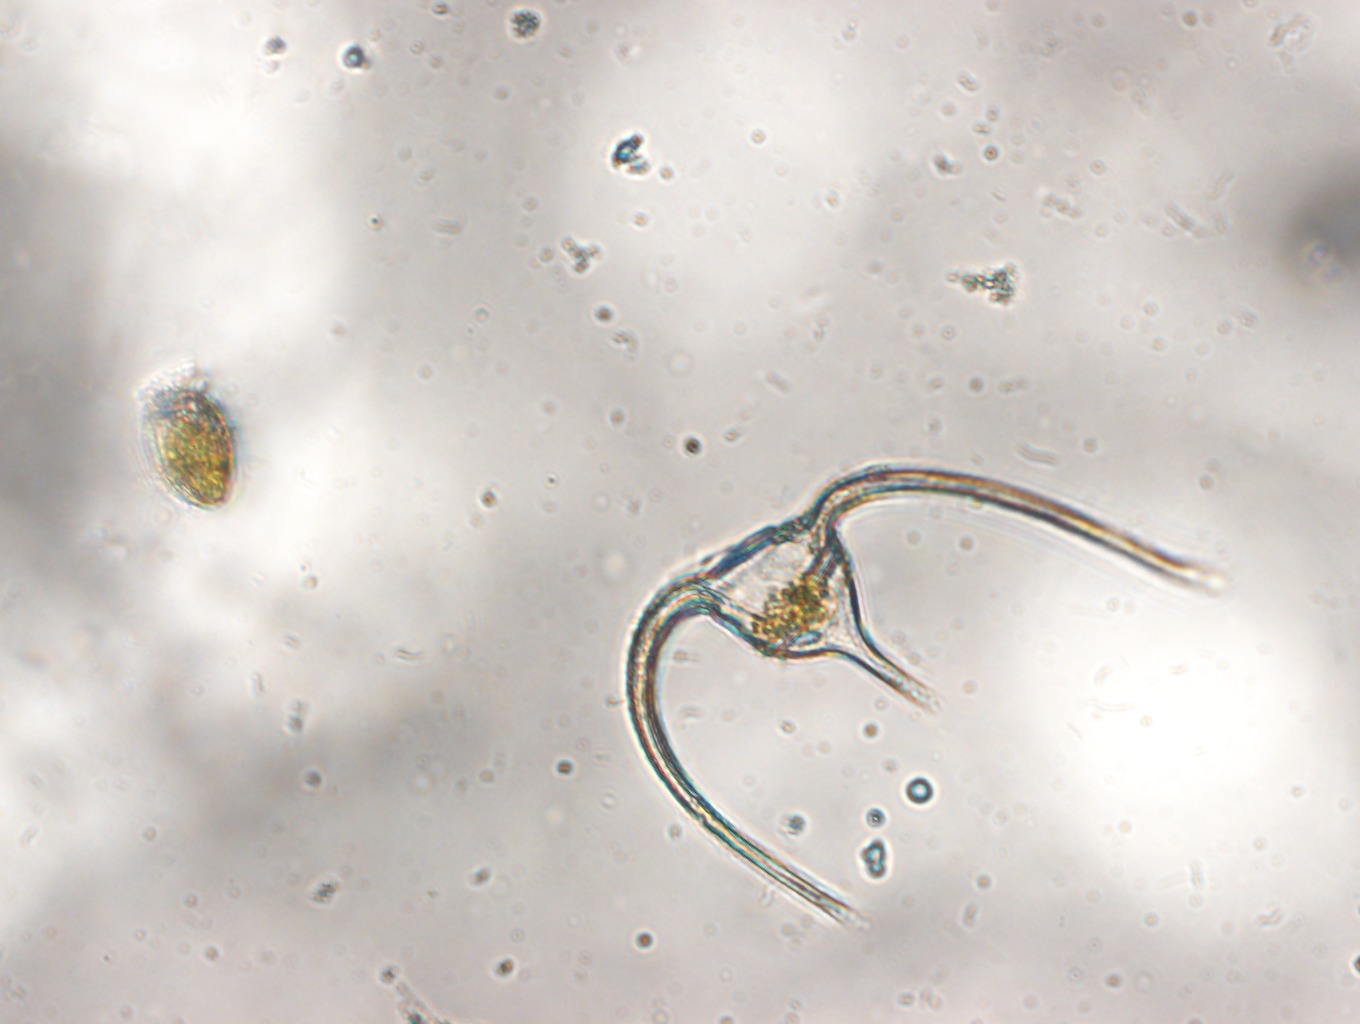ceratium trichoceros: (619, 449, 1218, 937)
